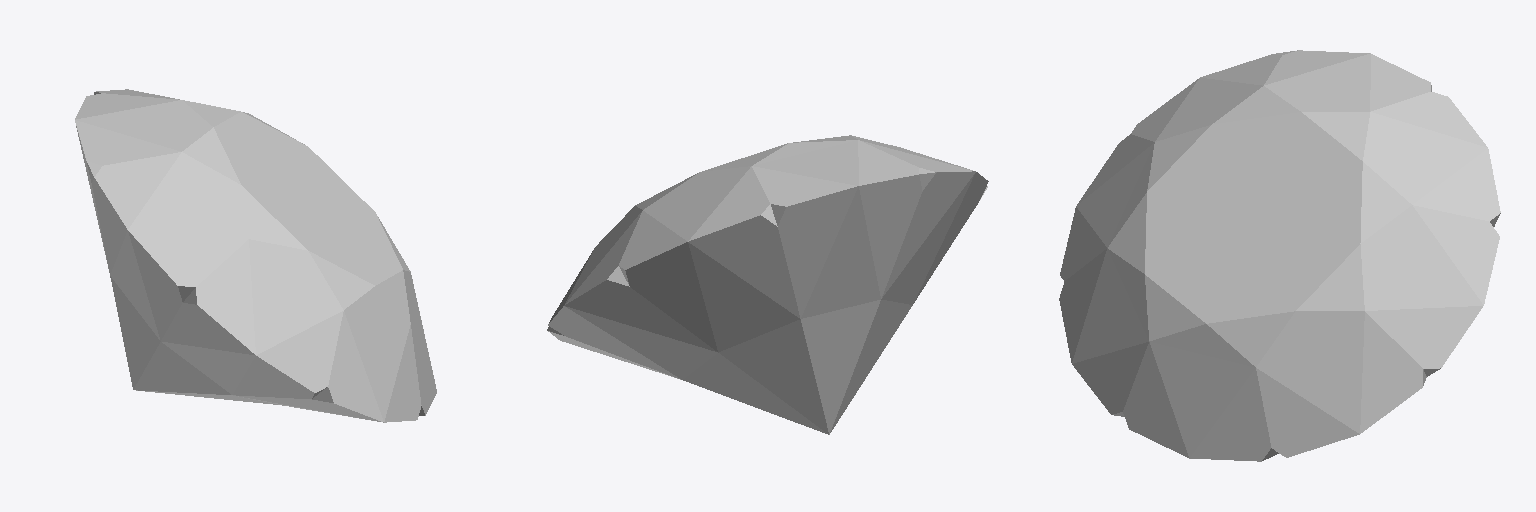
File: demo_diamond2.obj
3 views of the same model, side by side, from view 1: azimuth 30°, elevation 25°; view 2: azimuth 150°, elevation 25°; view 3: azimuth 270°, elevation 25° (orthographic).
Parts seen in each view (by area): view 1: Mesh3; view 2: Mesh3; view 3: Mesh3.
Boxes of the visible parts, <box> form: Mesh3: <box>75,89,436,422</box>; Mesh3: <box>547,135,988,434</box>; Mesh3: <box>1059,50,1500,461</box>.
Bounding box in the file's own units: 2.56 × 1.98 × 2.91.